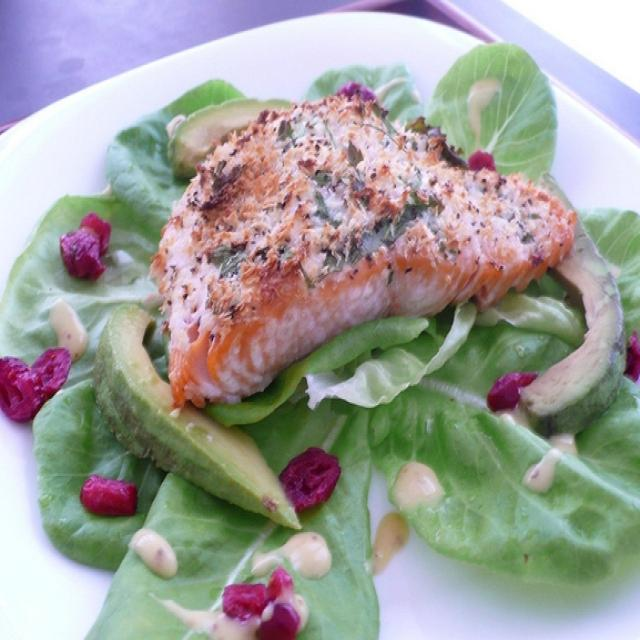熟制海鲜: (96, 58, 604, 484)
